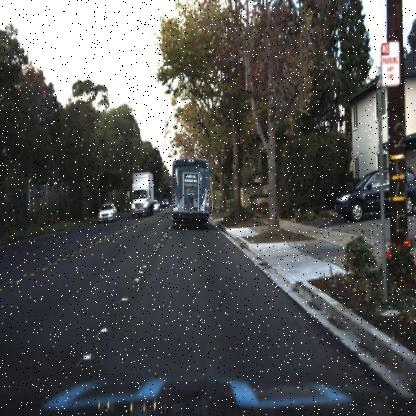car: (332, 162, 415, 226), (129, 170, 156, 219), (96, 203, 118, 224)
truck: (168, 150, 212, 234), (130, 170, 155, 221)
